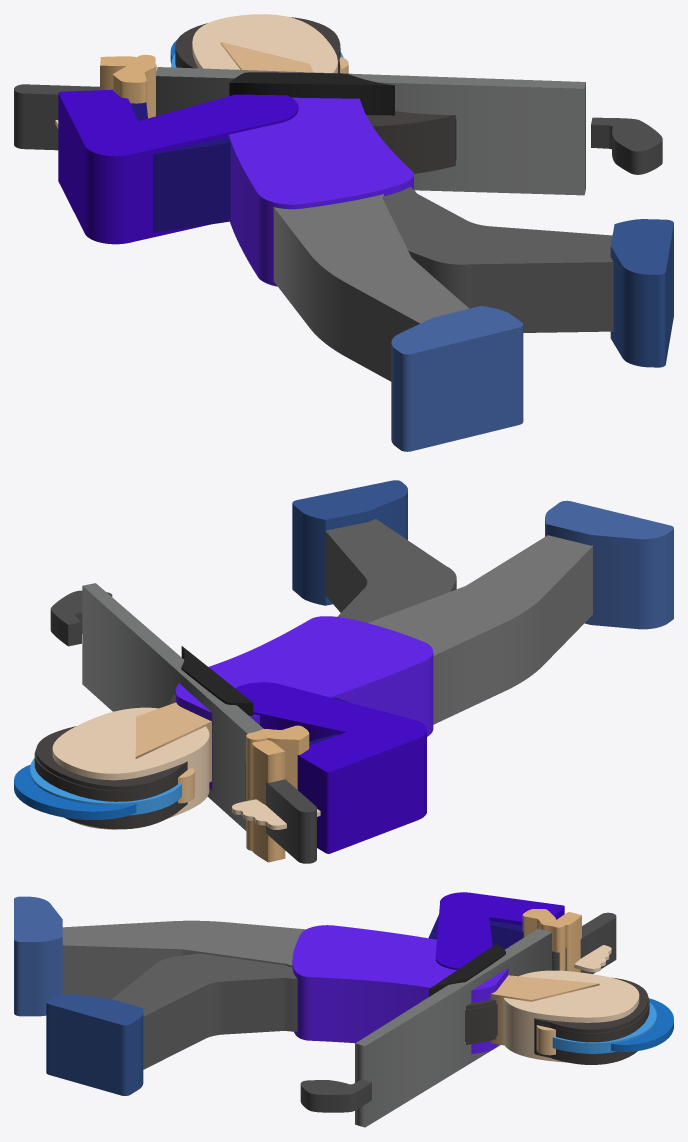
File: emoji_u1f3cc_1f3fb_200d_2640.glb
3 views of the same model, one above another, from view 1: azimuth 30°, elevation 25°; view 2: azimuth 150°, elevation 25°; view 3: azimuth 270°, elevation 25° (orthographic). The views are drawn at different scales.
Visible parts, largest first — view 1: emoji_u1f3cc_1f3fb_200d_2640; view 2: emoji_u1f3cc_1f3fb_200d_2640; view 3: emoji_u1f3cc_1f3fb_200d_2640.
Boxes of the visible parts, box(x1,y1,x2,y2) form: emoji_u1f3cc_1f3fb_200d_2640: box(14, 14, 673, 451); emoji_u1f3cc_1f3fb_200d_2640: box(14, 480, 673, 863); emoji_u1f3cc_1f3fb_200d_2640: box(14, 892, 673, 1127).
Size of the model in its own units: 0.0216 by 0.0052 by 0.0338.
